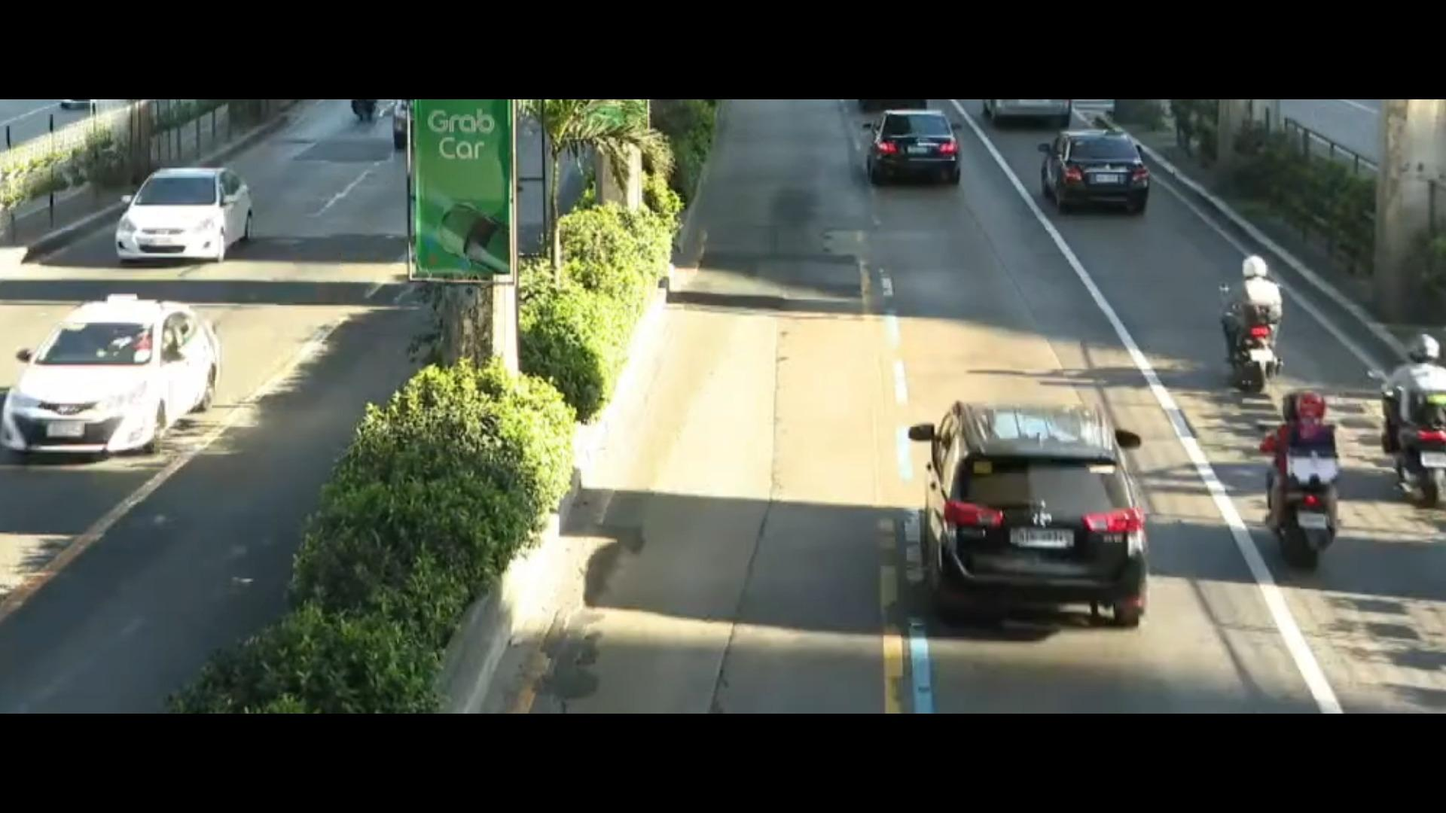Motorcycle: (1209, 241, 1350, 411), (1245, 352, 1358, 557), (1375, 328, 1446, 539)
SUV: (882, 349, 1155, 661)
Sedan: (0, 288, 226, 464), (102, 157, 260, 288), (1034, 111, 1149, 224), (848, 112, 972, 194)
